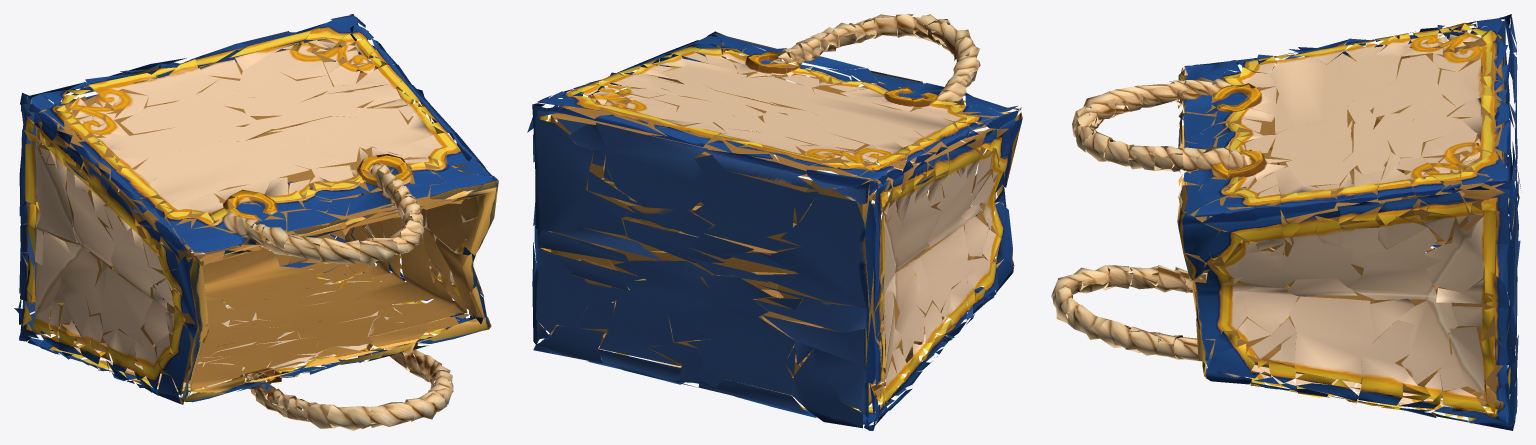
The model's file is blue_gift_bag_v1.glb.
3 views of the same model, side by side, from view 1: azimuth 30°, elevation 25°; view 2: azimuth 150°, elevation 25°; view 3: azimuth 270°, elevation 25° (orthographic).
Visible parts, largest first — view 1: Mesh_0; view 2: Mesh_0; view 3: Mesh_0.
Part boxes in pixels (<box>): Mesh_0: <box>14,14,498,430</box>; Mesh_0: <box>527,14,1022,430</box>; Mesh_0: <box>1051,14,1521,430</box>.
Bounding box in the file's own units: 1.68 × 1.15 × 1.92.
1 material, 1 textured.
